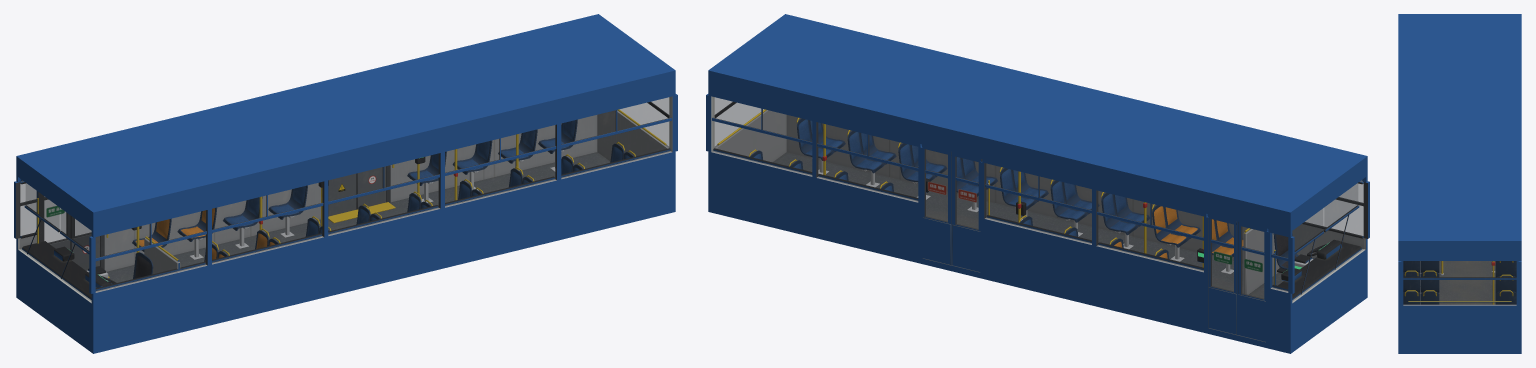
File: PH_BusInterior.fbx
3 views of the same model, side by side, from view 1: azimuth 30°, elevation 25°; view 2: azimuth 150°, elevation 25°; view 3: azimuth 270°, elevation 25° (orthographic). The views are drawn at different scales.
Parts seen in each view (by area): view 1: PH_BusInterior, PH_BusInterior_Glass, PH_BusInterior_Props; view 2: PH_BusInterior, PH_BusInterior_Glass, PH_BusInterior_Props, PH_BusInterior_Decals; view 3: PH_BusInterior, PH_BusInterior_Glass, PH_BusInterior_Props.
Part boxes in pixels (left/top/right/bottom): PH_BusInterior: left=14, top=14, right=677, bottom=353; PH_BusInterior_Glass: left=20, top=97, right=671, bottom=300; PH_BusInterior_Props: left=22, top=101, right=669, bottom=299; PH_BusInterior: left=706, top=14, right=1369, bottom=353; PH_BusInterior_Glass: left=712, top=97, right=1363, bottom=300; PH_BusInterior_Props: left=714, top=101, right=1361, bottom=299; PH_BusInterior_Decals: left=927, top=181, right=1262, bottom=272; PH_BusInterior: left=1398, top=14, right=1521, bottom=353; PH_BusInterior_Glass: left=1403, top=261, right=1516, bottom=304; PH_BusInterior_Props: left=1403, top=261, right=1516, bottom=304.
Size of the model in its own units: 10.98 by 2.53 by 2.5.
